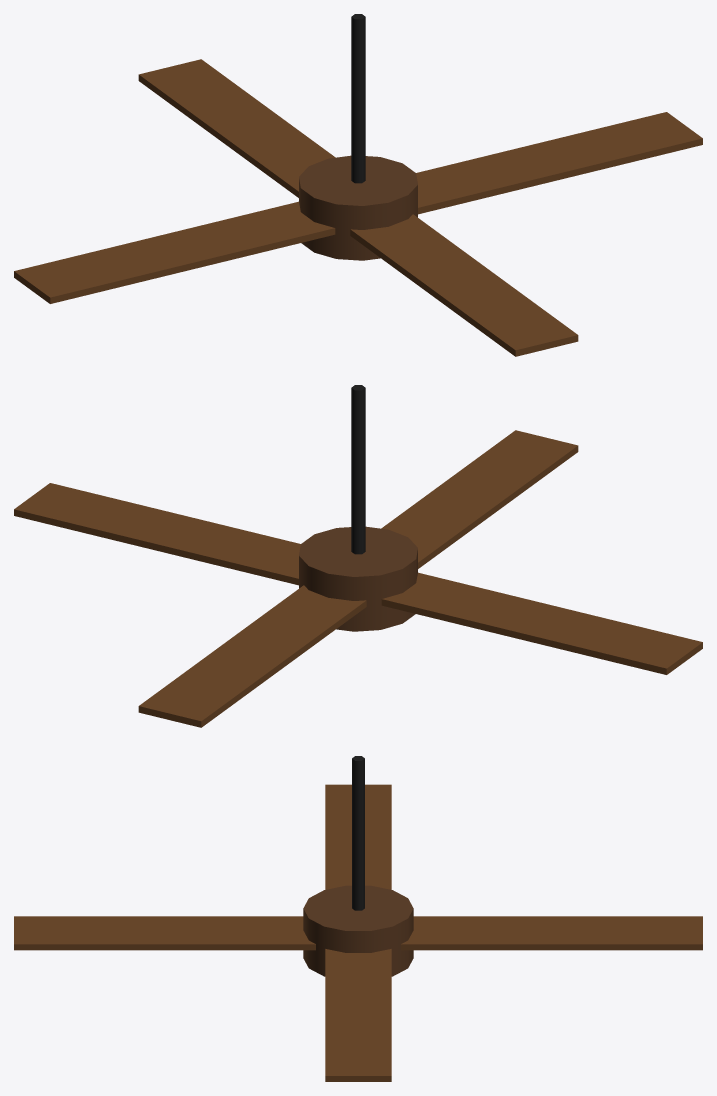
File: ceiling-fan.obj
The picture shows the model from 3 angles, top to bottom: view 1: azimuth 30°, elevation 25°; view 2: azimuth 150°, elevation 25°; view 3: azimuth 270°, elevation 25°; orthographic projection. The views are drawn at different scales.
Visible parts, largest first — view 1: ceiling-fan_4, ceiling-fan_2, ceiling-fan_3, ceiling-fan_5, ceiling-fan_1, ceiling-fan_0; view 2: ceiling-fan_4, ceiling-fan_2, ceiling-fan_5, ceiling-fan_3, ceiling-fan_1, ceiling-fan_0; view 3: ceiling-fan_3, ceiling-fan_5, ceiling-fan_2, ceiling-fan_1, ceiling-fan_4, ceiling-fan_0.
Part boxes in pixels (x1=…): ceiling-fan_4: x1=14, y1=201, x2=335, y2=303; ceiling-fan_2: x1=416, y1=112, x2=702, y2=214; ceiling-fan_3: x1=350, y1=214, x2=578, y2=356; ceiling-fan_5: x1=138, y1=59, x2=335, y2=197; ceiling-fan_1: x1=299, y1=155, x2=417, y2=260; ceiling-fan_0: x1=351, y1=14, x2=365, y2=183; ceiling-fan_4: x1=381, y1=572, x2=702, y2=674; ceiling-fan_2: x1=14, y1=483, x2=300, y2=585; ceiling-fan_5: x1=138, y1=585, x2=366, y2=727; ceiling-fan_3: x1=381, y1=430, x2=578, y2=568; ceiling-fan_1: x1=299, y1=526, x2=417, y2=631; ceiling-fan_0: x1=351, y1=385, x2=365, y2=554; ceiling-fan_3: x1=14, y1=916, x2=315, y2=950; ceiling-fan_5: x1=401, y1=916, x2=702, y2=950; ceiling-fan_2: x1=325, y1=949, x2=391, y2=1081; ceiling-fan_1: x1=303, y1=885, x2=413, y2=976; ceiling-fan_4: x1=325, y1=784, x2=391, y2=889; ceiling-fan_0: x1=352, y1=756, x2=364, y2=910.
Bounding box in the file's own units: 1.25 × 0.4 × 1.25.
